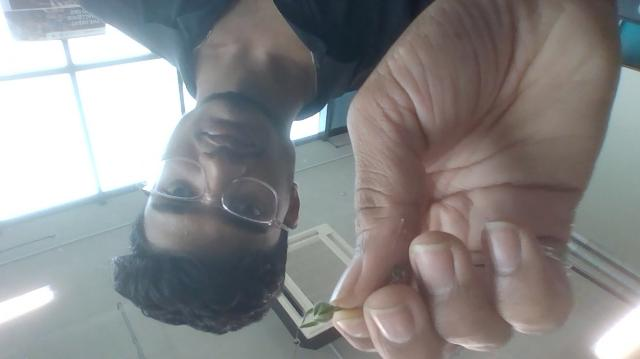Fruit Bud: (311, 301, 344, 323)
